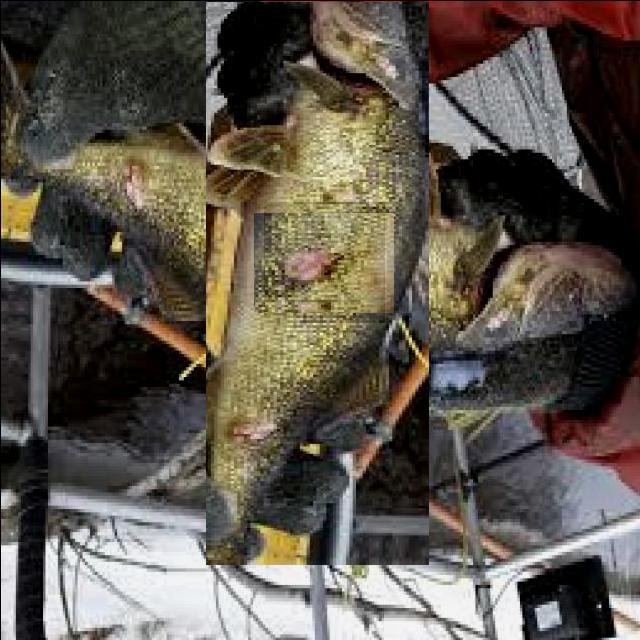EUS Disease: (102, 35, 530, 462), (263, 201, 384, 322), (110, 139, 168, 248)
